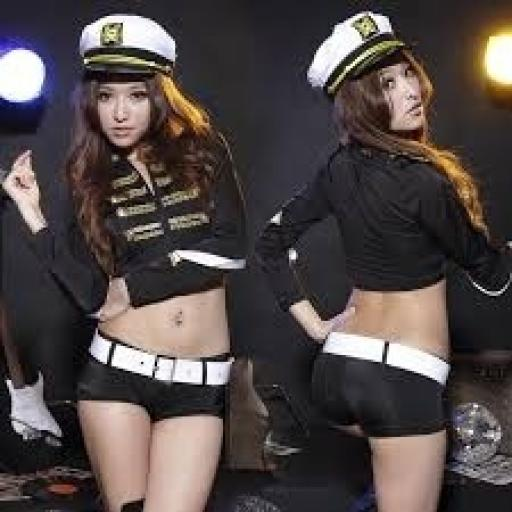dancing: (250, 9, 510, 510), (0, 11, 257, 510)
